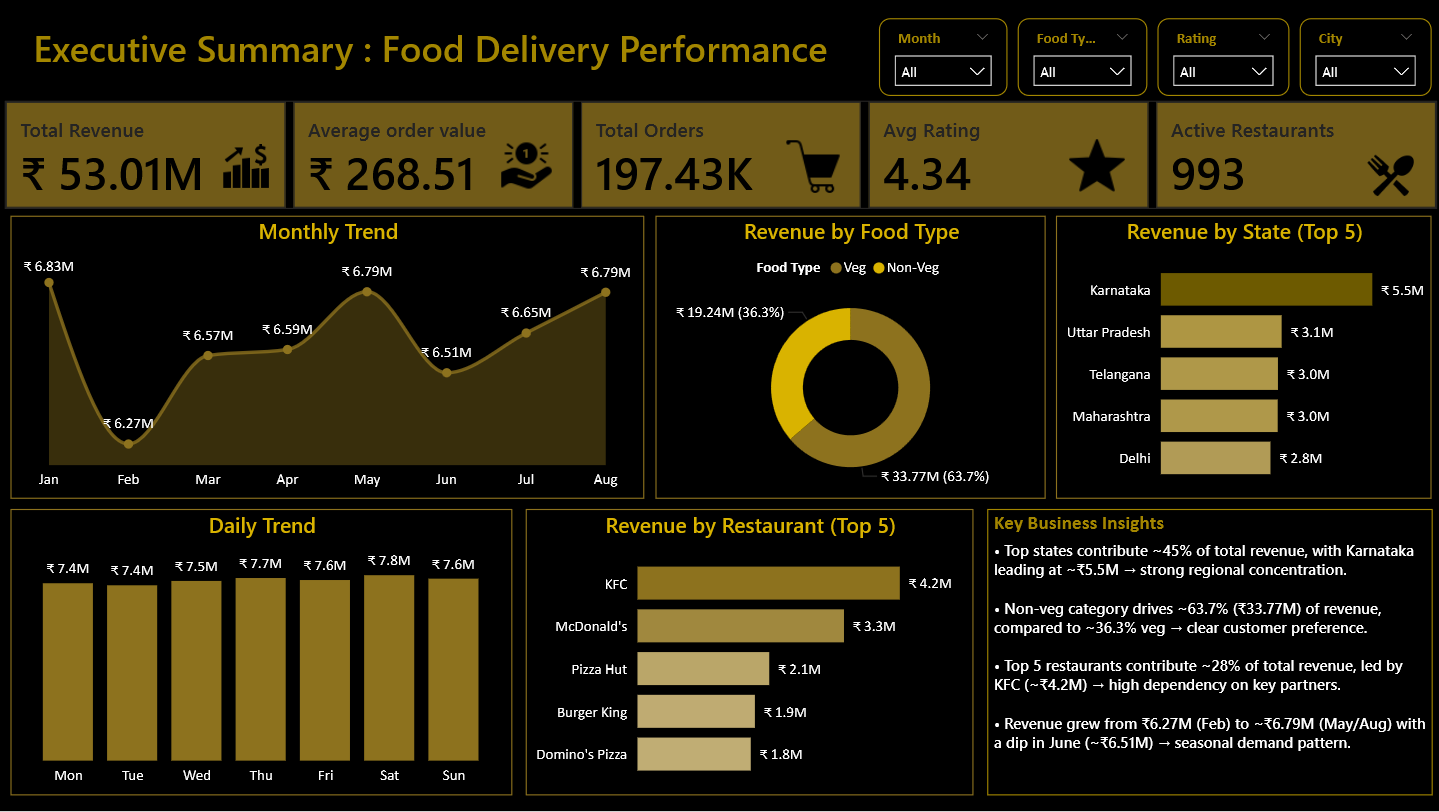

The page's visual inventory and layout, read from the dashboard file:
{"tool":"powerbi","page":{"name":"Executive","canvas":[1280,720],"ordinal":0},"visuals":[{"type":"textbox","box":[0,16.5,765,68.6],"z":0},{"type":"cardVisual","fields":{"Data":["fact_orders.Total Revenue","fact_orders.AOV","fact_orders.Total Orders","Avg(fact_orders.rating)","fact_orders.Active Restaurants"]},"box":[0,85,1280.6,106.9],"z":1000},{"type":"areaChart","title":"Monthly Trend","fields":{"Category":["dim_date.Month"],"Y":["fact_orders.Total Revenue"]},"box":[9.7,191.8,562.2,250.9],"z":2000},{"type":"donutChart","title":"Revenue by Food Type ","fields":{"Y":["fact_orders.Total Revenue"],"Category":["dim_dish.Food Type"]},"box":[581.5,191.8,346.2,250.9],"z":3000},{"type":"barChart","title":" Revenue by Restaurant (Top 5)","fields":{"Category":["dim_restaurant.restaurant_name"],"Y":["fact_orders.Total Revenue"]},"box":[466.7,452.4,397.6,253.6],"z":4000},{"type":"barChart","title":" Revenue by State (Top 5)","fields":{"Y":["fact_orders.Total Revenue"],"Category":["dim_location.state"]},"box":[937.4,191.8,333,250.9],"z":5000},{"type":"slicer","fields":{"Values":["dim_dish.Food Type"]},"box":[903.4,16.9,114.6,68.8],"z":6000},{"type":"slicer","fields":{"Values":["dim_date.Month"]},"box":[779.6,16.9,114.6,68.8],"z":7000},{"type":"slicer","fields":{"Values":["fact_orders.rating"]},"box":[1027.2,16.9,117,68.8],"z":8000},{"type":"slicer","fields":{"Values":["dim_location.city"]},"box":[1153.4,16.9,117,68.8],"z":9000},{"type":"textbox","title":"Key Business Insights","box":[876.1,452.4,394.9,253.6],"z":10000},{"type":"columnChart","title":"Daily Trend","fields":{"Y":["fact_orders.Total Revenue"],"Category":["dim_date.Day"]},"box":[9.7,452.4,445.2,253.4],"z":11000},{"type":"image","box":[427.8,117.9,78.1,59],"z":12000},{"type":"image","box":[187.8,117.9,61.7,59],"z":13000},{"type":"image","box":[684.2,117.9,75.4,59],"z":14000},{"type":"image","box":[937.8,117.9,69.9,59],"z":15000},{"type":"image","box":[1186,127.5,94.6,56.2],"z":16000}]}

Visuals, with their boxes in screenshot pixels (x1, y1, x2, y2), scaled from the page's 1280x720 canvas onto the 1439x812 screenshot:
textbox: (0, 19, 860, 96)
cardVisual - fact_orders.Total Revenue x fact_orders.AOV: (0, 96, 1438, 216)
"Monthly Trend" areaChart: (11, 216, 643, 499)
"Revenue by Food Type " donutChart: (654, 216, 1043, 499)
" Revenue by Restaurant (Top 5)" barChart: (525, 510, 972, 796)
" Revenue by State (Top 5)" barChart: (1054, 216, 1428, 499)
slicer - dim_dish.Food Type: (1016, 19, 1144, 97)
slicer - dim_date.Month: (876, 19, 1005, 97)
slicer - fact_orders.rating: (1155, 19, 1286, 97)
slicer - dim_location.city: (1297, 19, 1428, 97)
"Key Business Insights" textbox: (985, 510, 1429, 796)
"Daily Trend" columnChart: (11, 510, 511, 796)
image: (481, 133, 569, 200)
image: (211, 133, 280, 200)
image: (769, 133, 854, 200)
image: (1054, 133, 1133, 200)
image: (1333, 144, 1438, 207)
